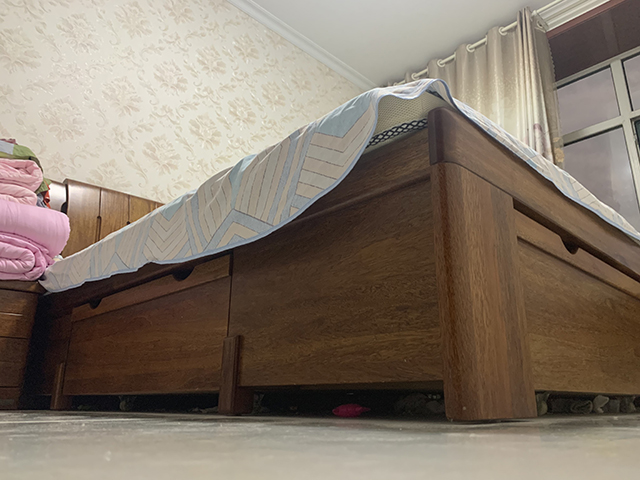bed: (45, 78, 640, 426)
